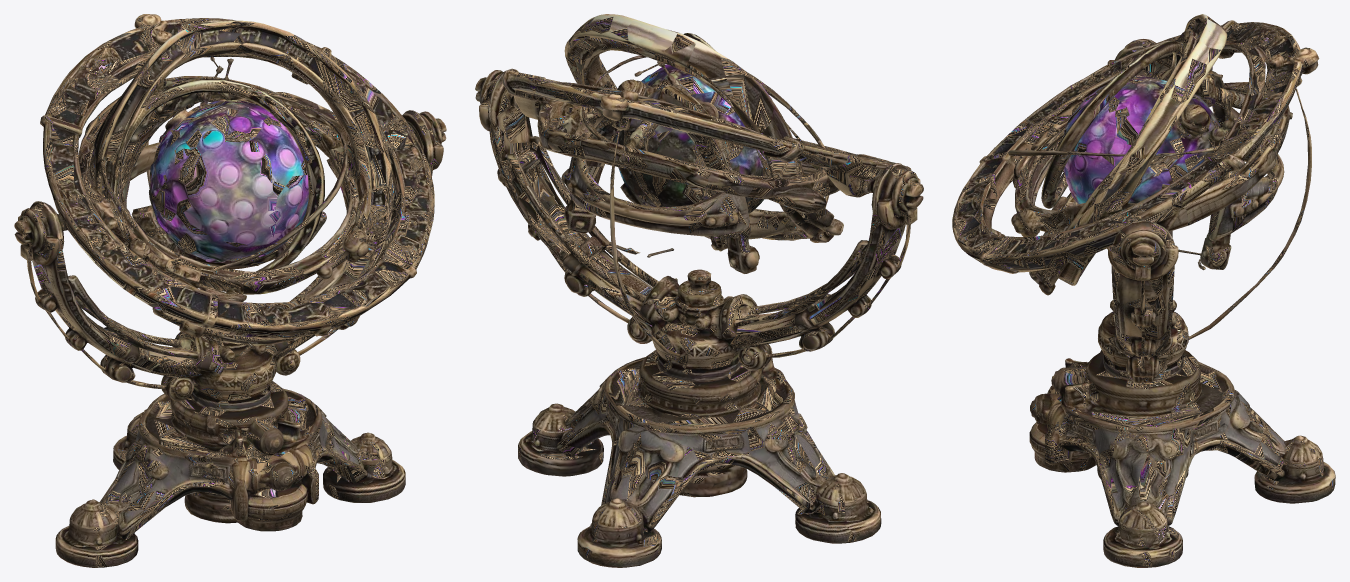
File: Celestial_Armillary.glb
The picture shows the model from 3 angles, left to right: view 1: azimuth 30°, elevation 25°; view 2: azimuth 150°, elevation 25°; view 3: azimuth 270°, elevation 25°; orthographic projection. The views are drawn at different scales.
Visible parts, largest first — view 1: Celestial_Armillary; view 2: Celestial_Armillary; view 3: Celestial_Armillary.
Part boxes in pixels (bbox=[...]): Celestial_Armillary: bbox=[14, 14, 446, 567]; Celestial_Armillary: bbox=[475, 14, 923, 567]; Celestial_Armillary: bbox=[952, 14, 1335, 567].
Size of the model in its own units: 1.79 by 1.9 by 1.42.
1 material, 1 textured.
